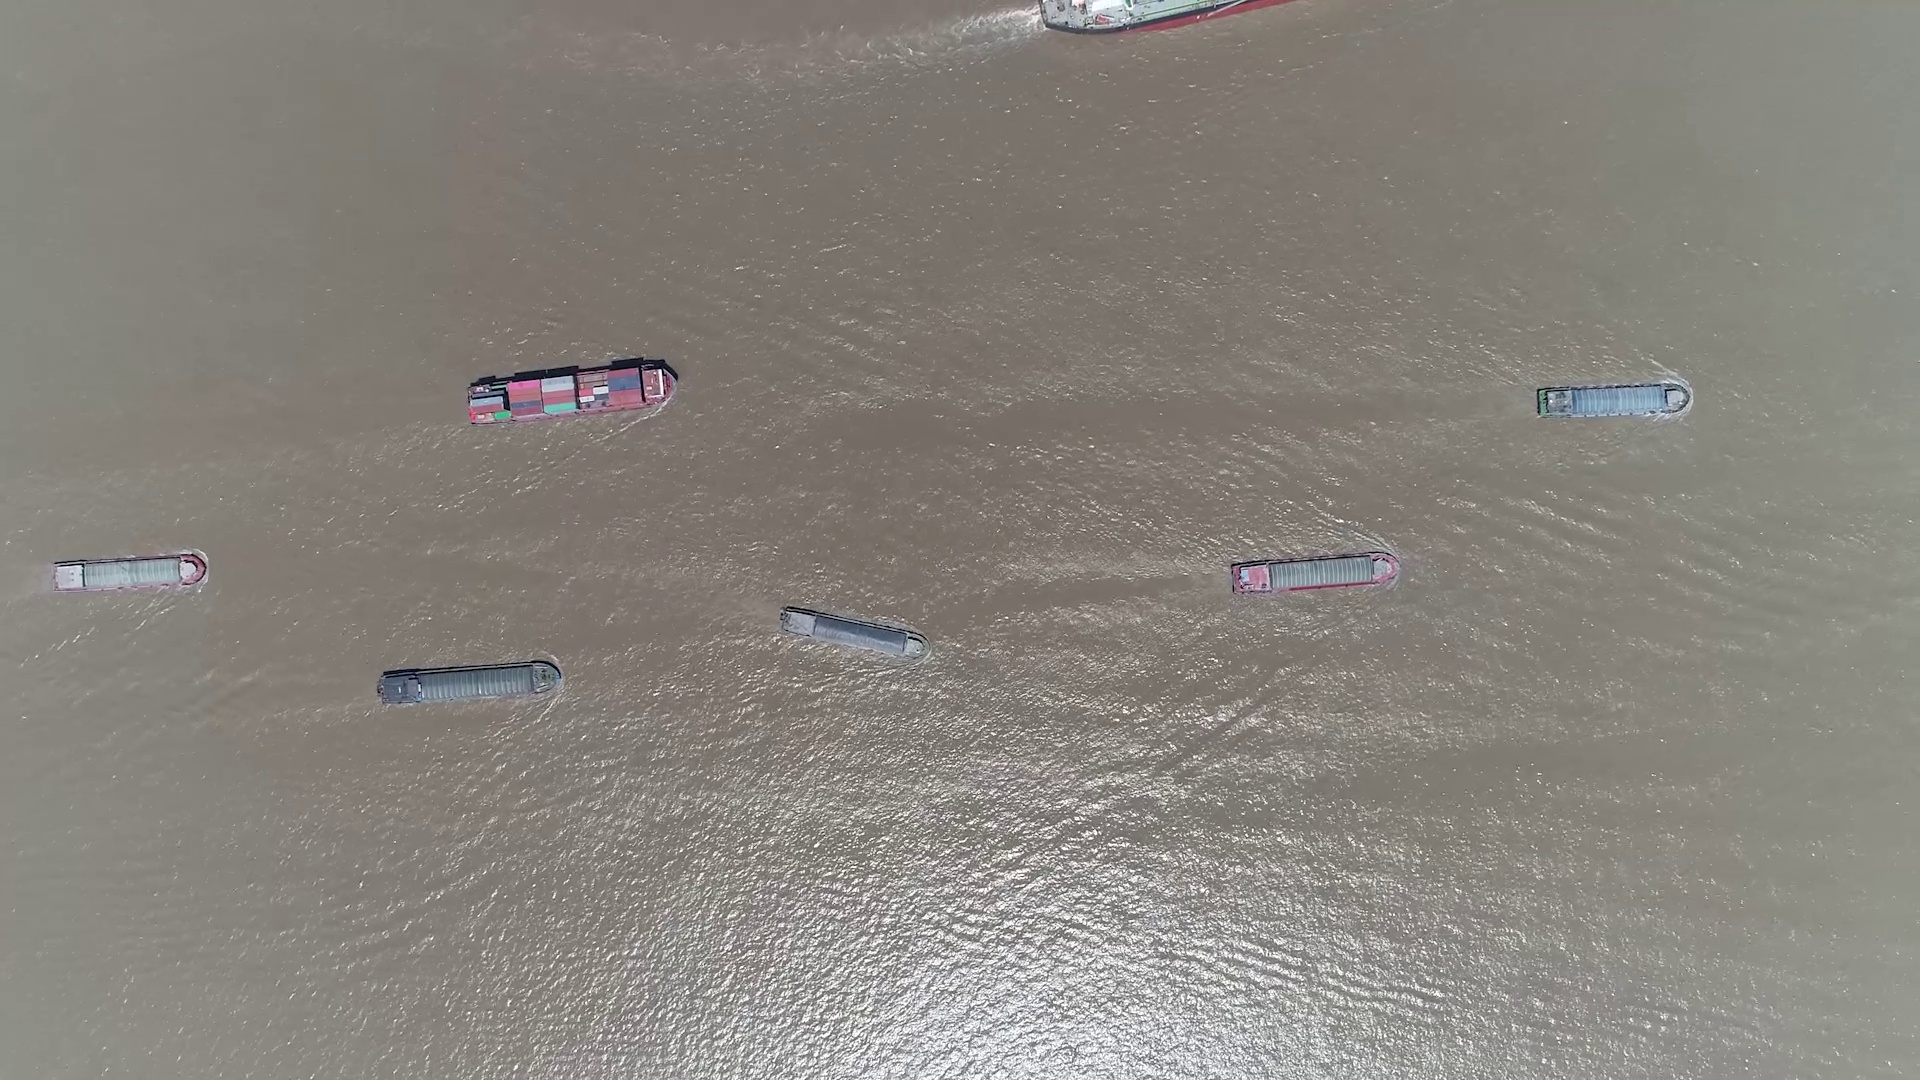ship: (468, 361, 678, 426), (378, 659, 560, 705), (777, 605, 926, 658), (1229, 553, 1400, 595), (1036, 3, 1291, 29), (51, 554, 204, 593), (1538, 382, 1689, 417)
